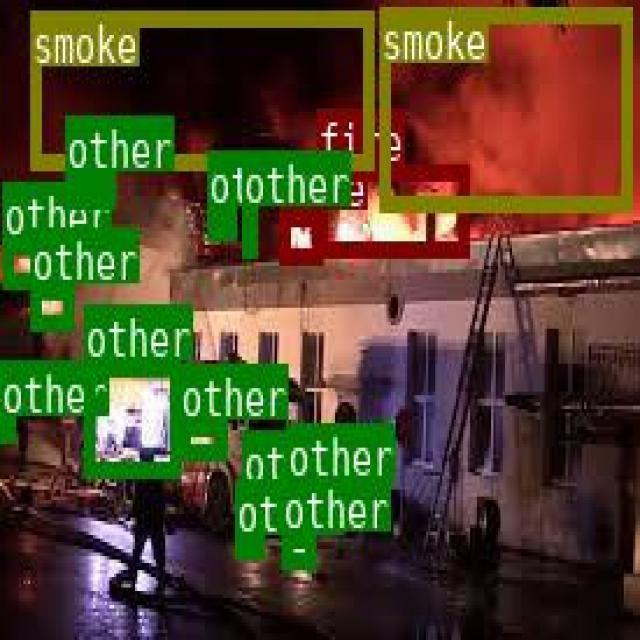fire: (316, 163, 466, 255), (279, 208, 319, 259)
smoke: (29, 10, 371, 166), (378, 6, 629, 207)
